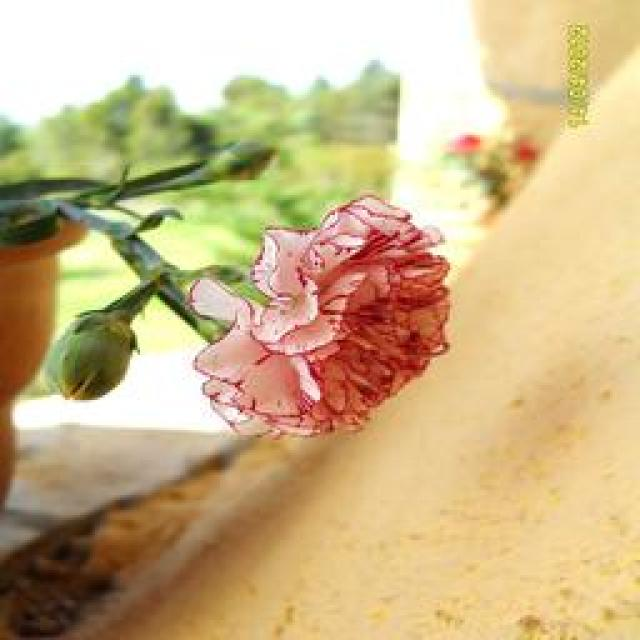carnation: (196, 180, 480, 444)
